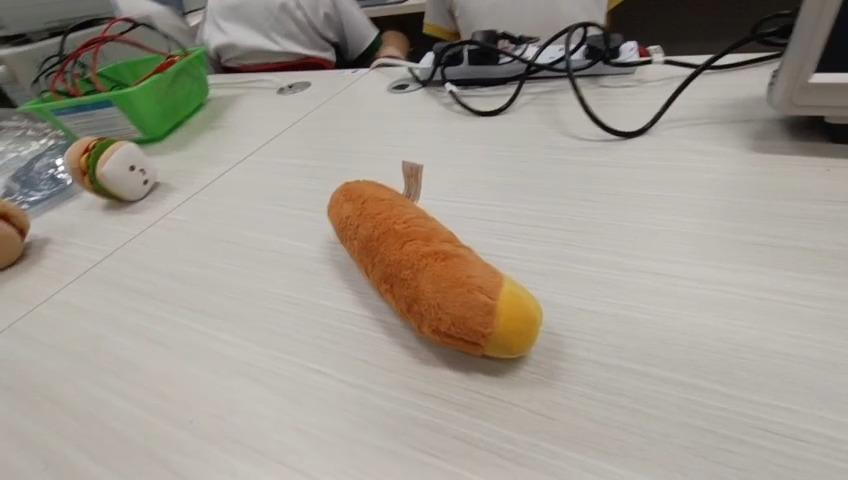hotdog: (326, 171, 543, 360)
